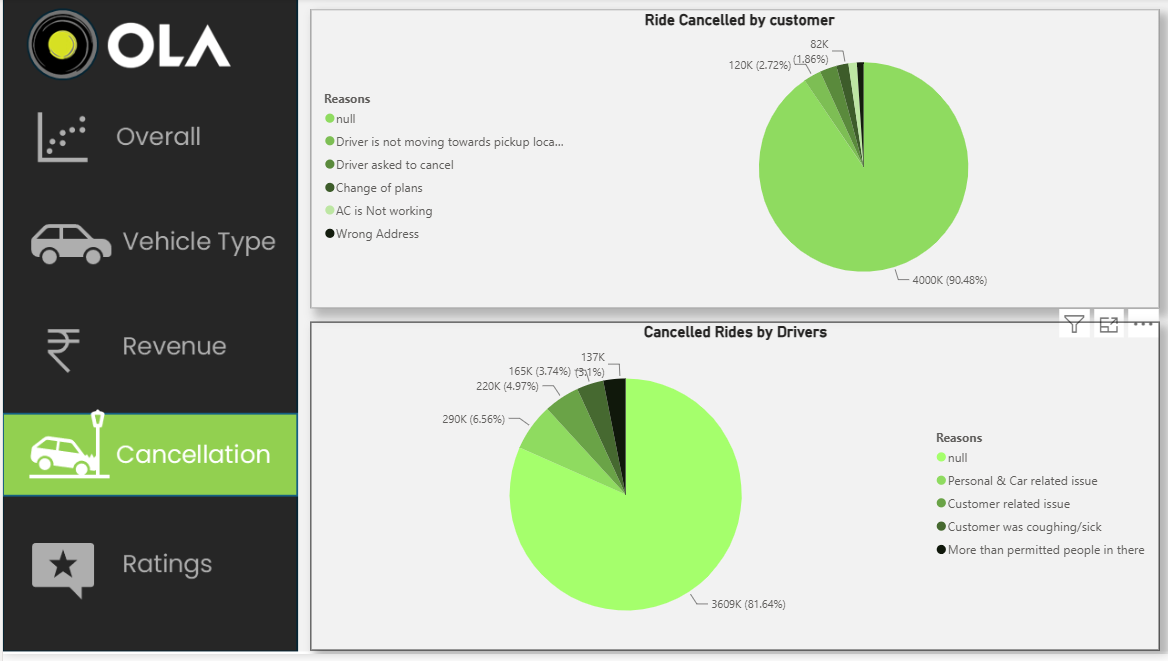

The dashboard page shown, as its layout file describes it:
{"tool":"powerbi","page":{"name":"Cancellation","canvas":[1280,720],"ordinal":3},"visuals":[{"type":"actionButton","box":[0,309.5,323.8,147.6],"z":0},{"type":"actionButton","box":[0,457.1,323.8,88.1],"z":1000},{"type":"actionButton","box":[0,545.2,323.8,175],"z":2000},{"type":"actionButton","box":[0,100,323.8,122.6],"z":3000},{"type":"actionButton","box":[0,222.6,323.8,86.9],"z":4000},{"type":"pieChart","title":"Ride Cancelled by customer","fields":{"Category":["ola.Canceled_Rides_by_Customer"],"Y":["Sum(ola.Booking_Value)"]},"box":[337.6,12.3,931.7,328],"z":4001},{"type":"pieChart","title":"Cancelled Rides by Drivers","fields":{"Category":["ola.Canceled_Rides_by_Driver"],"Y":["Sum(ola.Booking_Value)"]},"box":[337.6,355.4,931.7,360.9],"z":4002}]}

Visuals, with their boxes in screenshot pixels (x1, y1, x2, y2):
actionButton: 0,279,291,411
actionButton: 0,411,291,491
actionButton: 0,491,291,648
actionButton: 0,90,291,200
actionButton: 0,200,291,279
"Ride Cancelled by customer" pieChart: 304,11,1142,306
"Cancelled Rides by Drivers" pieChart: 304,320,1142,645
